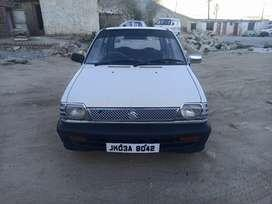JK03A8042: (104, 141, 158, 152)
